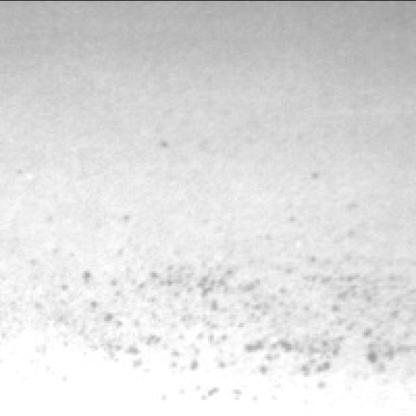pitted_surface: (14, 244, 414, 400)
